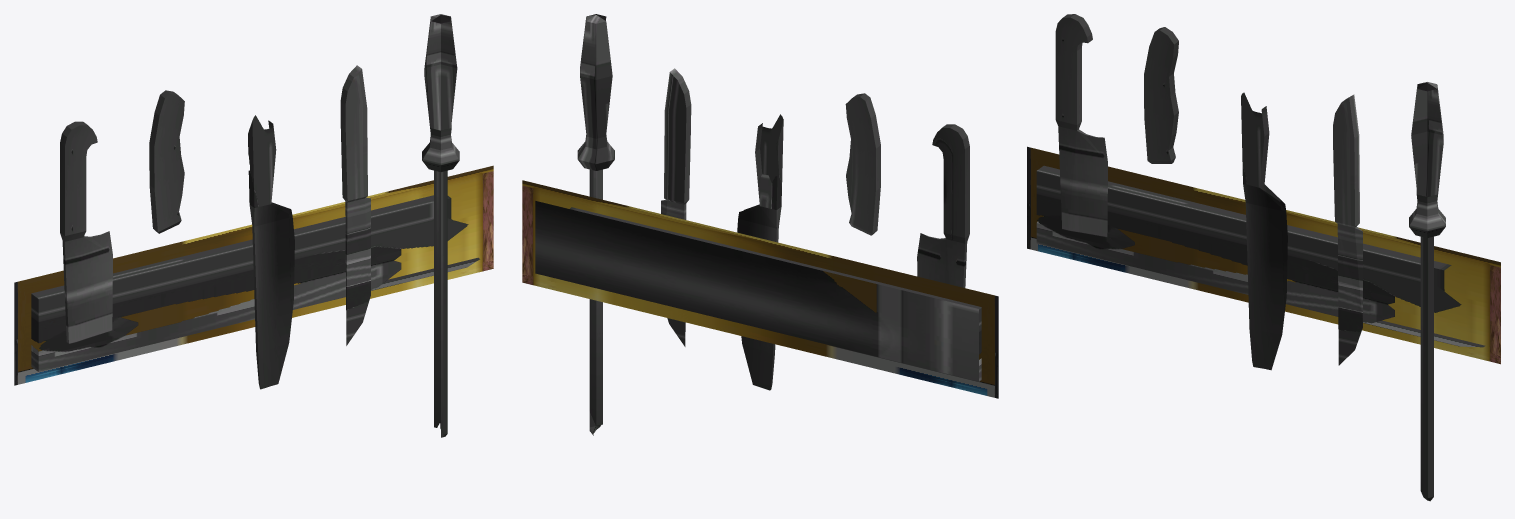
File: cuchillo.obj
3 renders of one model, left to right at view 1: azimuth 30°, elevation 25°; view 2: azimuth 150°, elevation 25°; view 3: azimuth 330°, elevation 25°, orthographic.
Visible parts, largest first — view 1: s4studio_mesh_1, s4studio_mesh_0; view 2: s4studio_mesh_1, s4studio_mesh_0; view 3: s4studio_mesh_1, s4studio_mesh_0.
Part boxes in pixels (<box>): s4studio_mesh_1: <box>31,14,479,437</box>; s4studio_mesh_0: <box>14,165,493,385</box>; s4studio_mesh_1: <box>535,14,981,435</box>; s4studio_mesh_0: <box>522,180,998,398</box>; s4studio_mesh_1: <box>1036,14,1485,501</box>; s4studio_mesh_0: <box>1027,146,1500,364</box>.
Size of the model in its own units: 0.6282 by 0.5438 by 0.0516.
